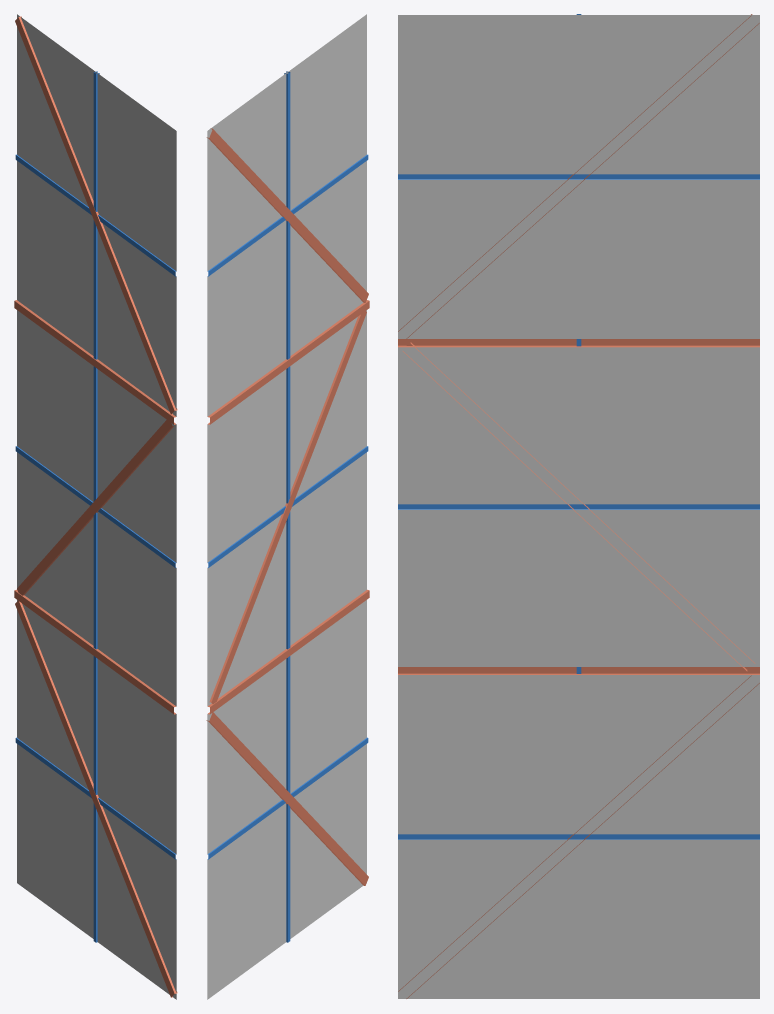
The model's file is Floor_01_MegaWall_02b.fbx.
3 renders of one model, left to right at view 1: azimuth 30°, elevation 25°; view 2: azimuth 150°, elevation 25°; view 3: azimuth 270°, elevation 25°, orthographic. The views are drawn at different scales.
Parts seen in each view (by area): view 1: Cube.002; view 2: Cube.002; view 3: Cube.002.
Part boxes in pixels (x1,y1,x2,y2): Cube.002: (14,14,177,999); Cube.002: (206,14,369,999); Cube.002: (398,14,759,998).
Bounding box in the file's own units: 3.24 × 600 × 200.
